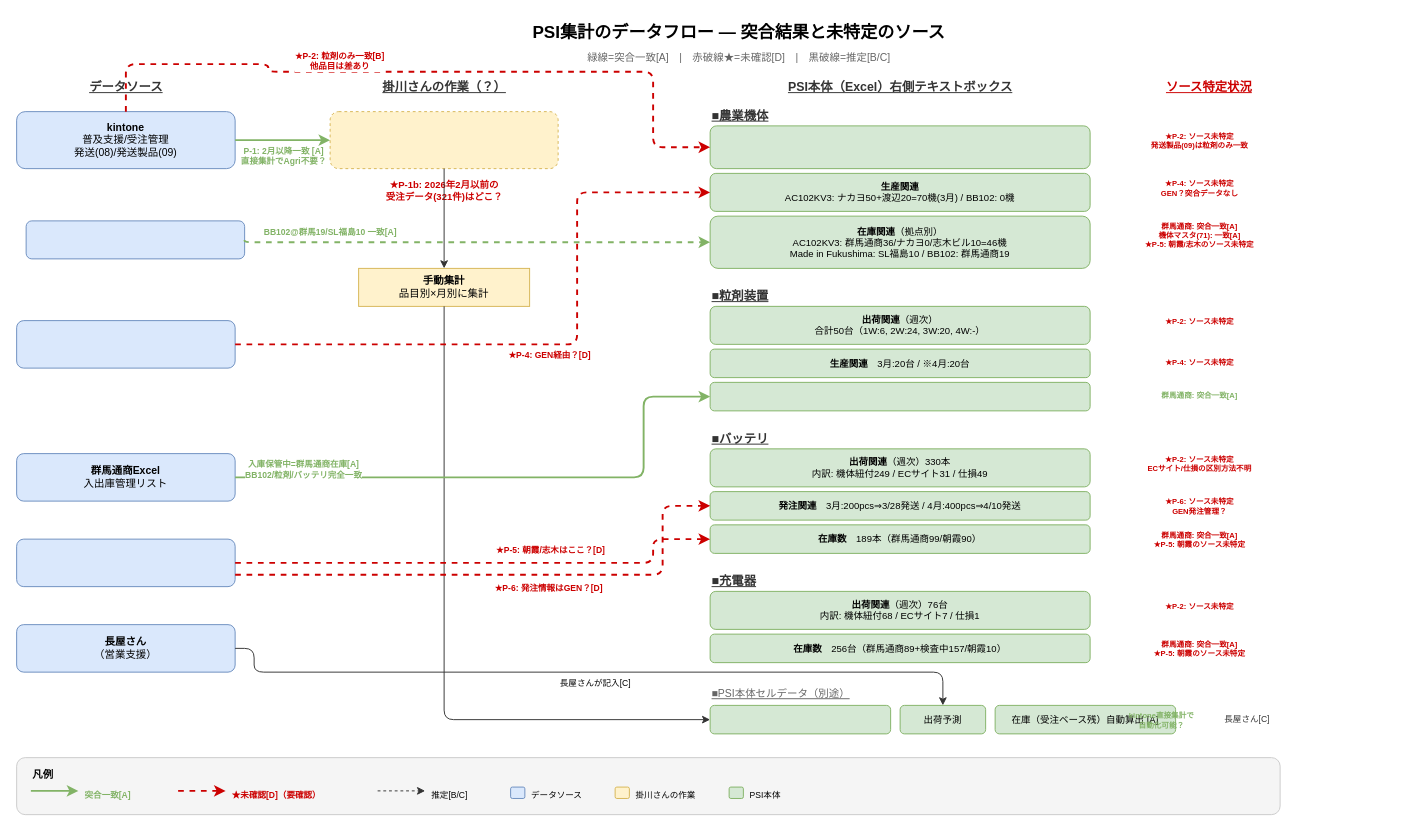
The diagram is 1420 pixels wide and 831 high, and some of its shapes have lost their labels. Here are the shapes that lost their labels. From the top down, the centre of each, then its label:
At (443,140): "受注案件一覧_Agriシート 顧客別・品目別の受注一覧 ※直接集計で不要になる？".
At (899,147): "出荷関連 （週次: 1W/2W/3W/4W） AC102KV3: 78機 / BB102: 3機 / 合計81機".
At (135,239): "kintone機体マスタ(71) ロケーション列".
At (125,344): "ナカヨ / 渡辺 製造委託先".
At (899,396): "在庫関連 新装置120台（ナカヨ0/群馬通商115/志木5）".
At (125,562): "GEN 在庫・発注管理？".
At (800,719): "受注数（出荷ベース）粒剤12ヶ月完全一致 [A]".
